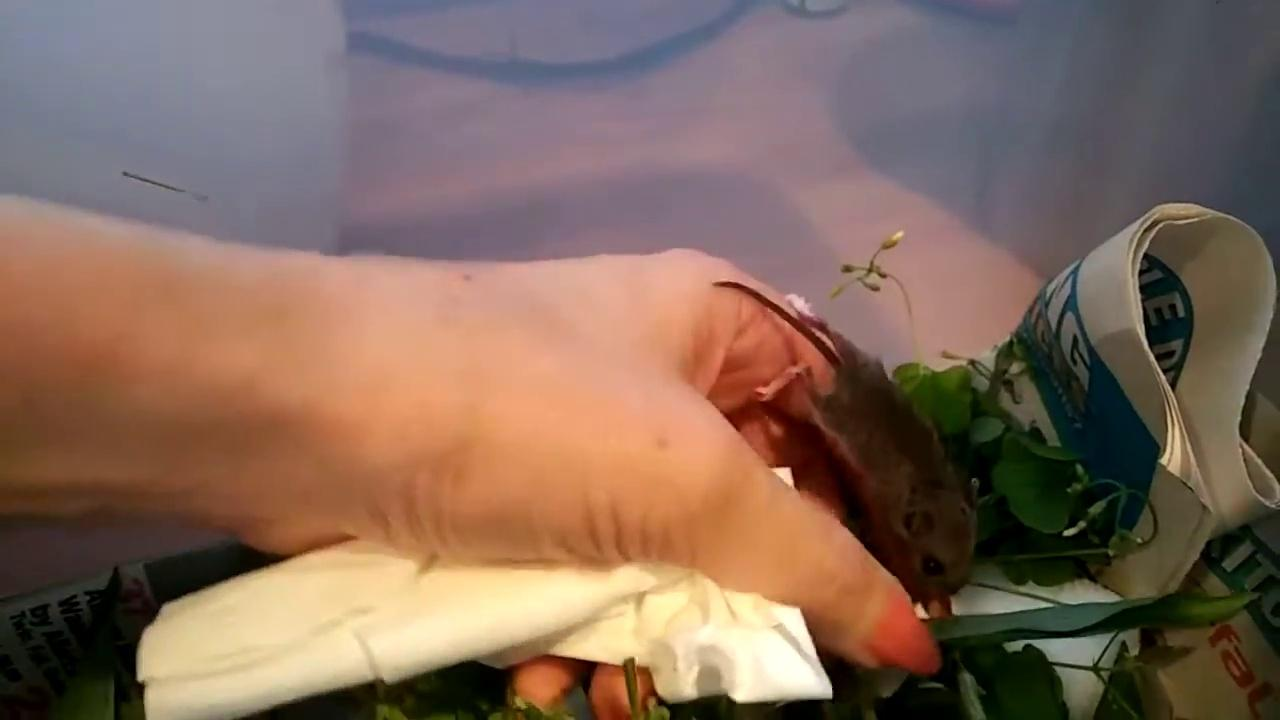mouse: (713, 281, 975, 600)
